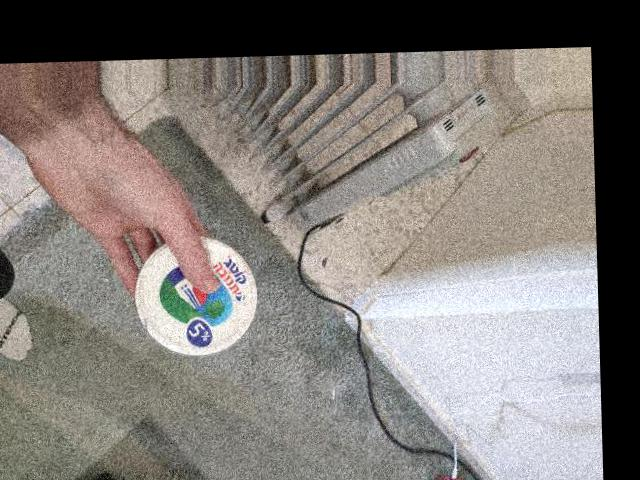cotage: (136, 235, 252, 351)
